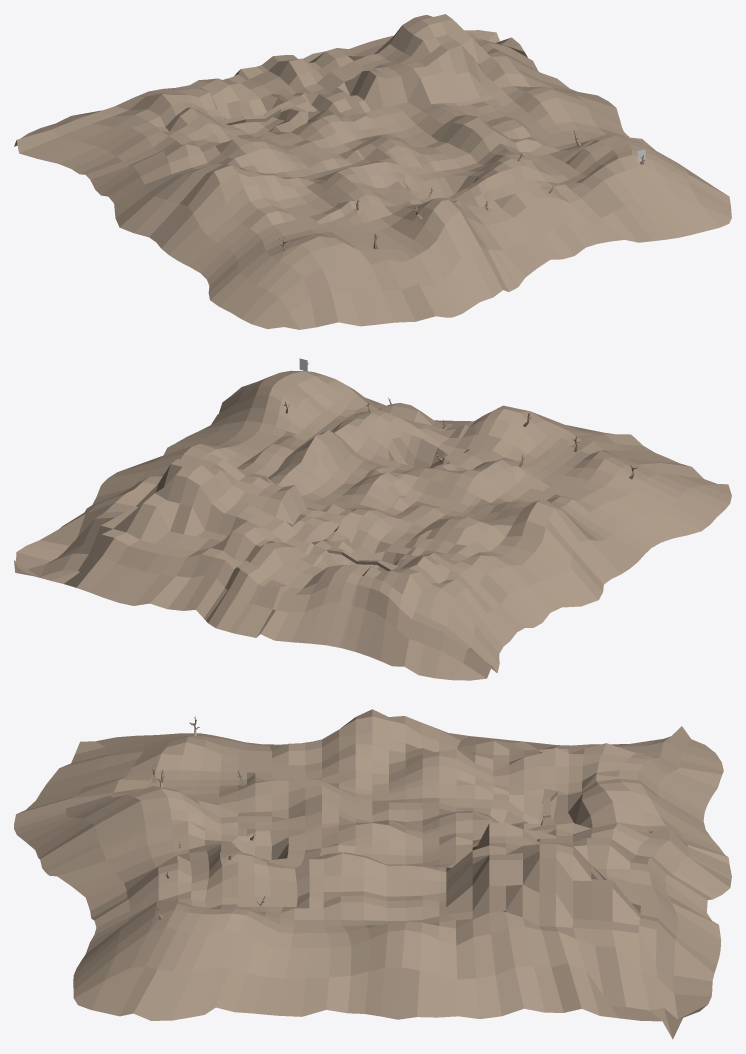
The model's file is ilhafinal.fbx.
3 views of the same model, one above another, from view 1: azimuth 30°, elevation 25°; view 2: azimuth 150°, elevation 25°; view 3: azimuth 270°, elevation 25° (orthographic). The views are drawn at different scales.
Parts seen in each view (by area): view 1: Plane.001; view 2: Plane.001; view 3: Plane.001.
Boxes of the visible parts, x1,y1,x2,y2 form: Plane.001: (14,14,731,329); Plane.001: (14,363,731,680); Plane.001: (14,709,731,1039).
Size of the model in its own units: 22.26 by 4.27 by 23.33.
